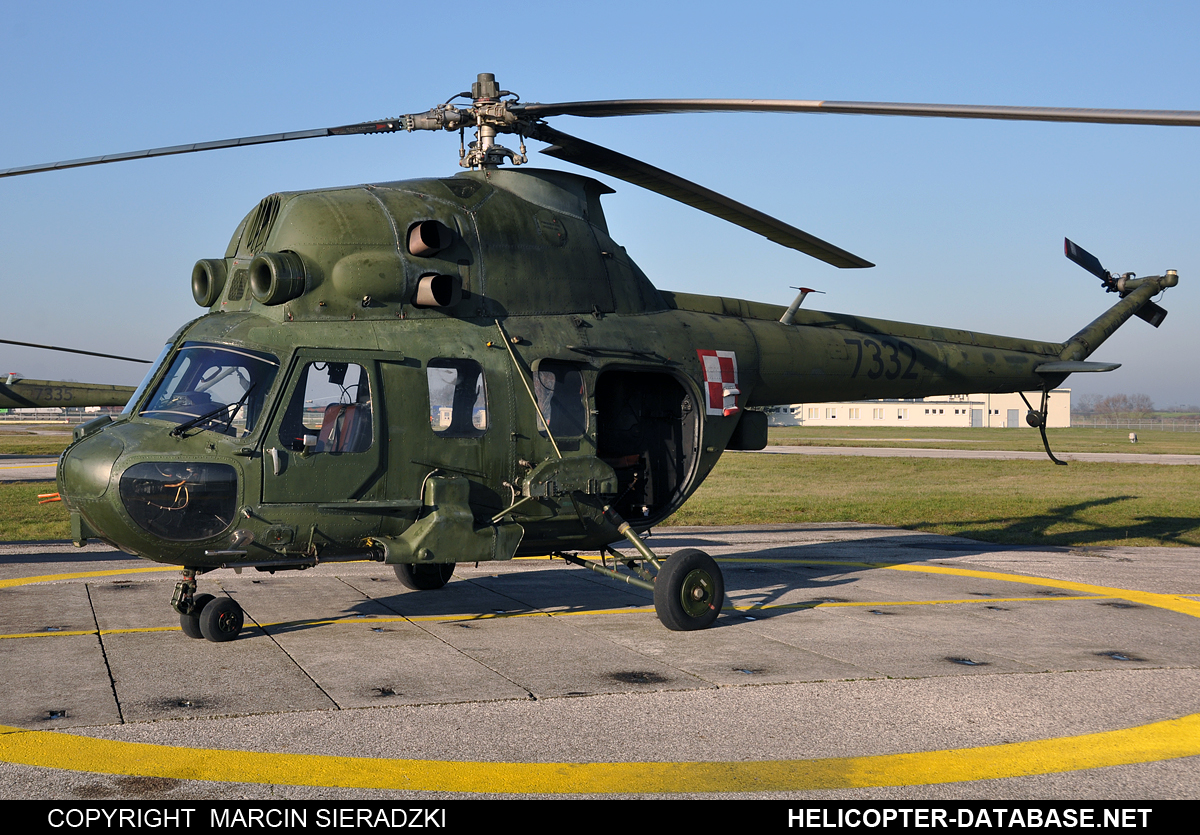number: (843, 335, 920, 385)
